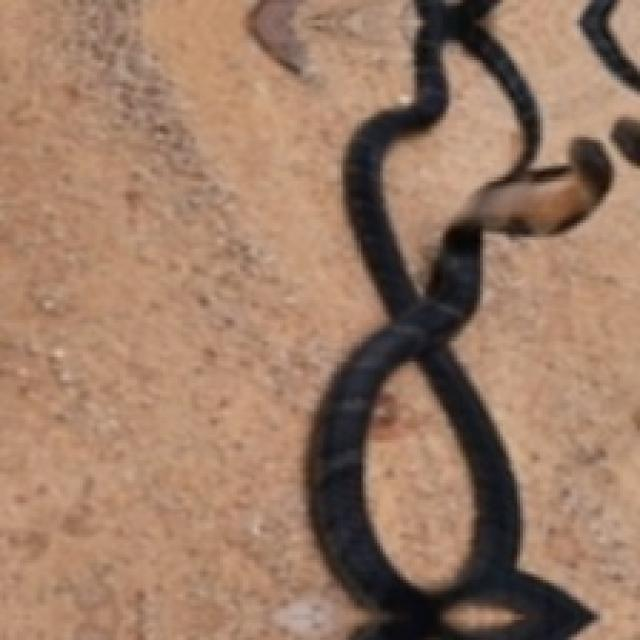king cobra: (309, 0, 611, 637)
